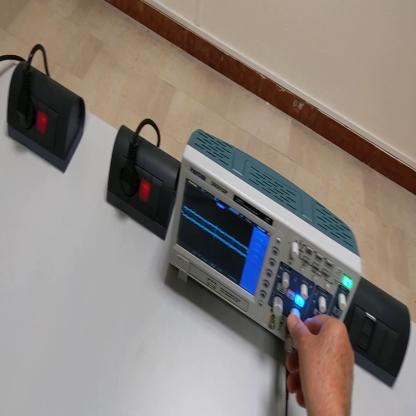hand: (284, 312, 357, 415)
oscilloscope: (166, 129, 363, 353)
socket: (4, 58, 89, 175), (106, 123, 184, 241)
